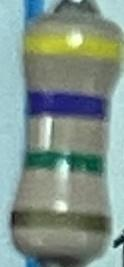Blue: (23, 89, 112, 129)
Green: (18, 146, 106, 186)
Side-Silver: (8, 204, 112, 239)
Yellow: (22, 35, 122, 66)
